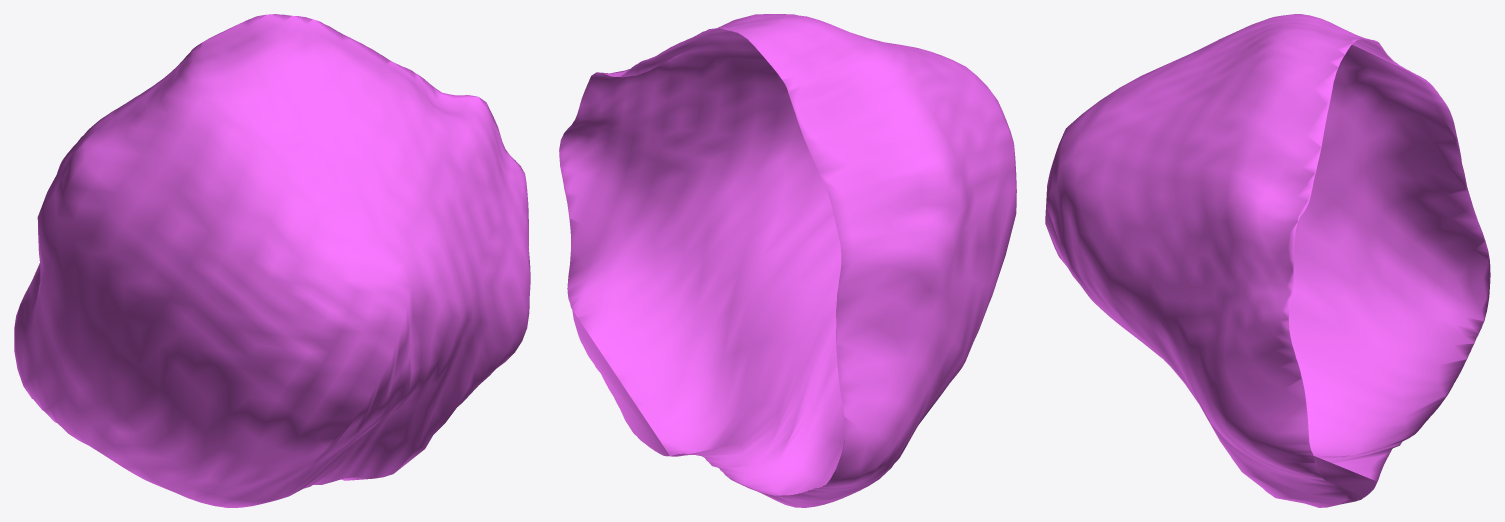
The model's file is Caries_2_OC.glb.
3 renders of one model, left to right at view 1: azimuth 30°, elevation 25°; view 2: azimuth 150°, elevation 25°; view 3: azimuth 270°, elevation 25°, orthographic. The views are drawn at different scales.
Visible parts, largest first — view 1: E2.001; view 2: E2.001; view 3: E2.001.
Boxes of the visible parts, <box> form: E2.001: <box>14,14,530,507</box>; E2.001: <box>559,14,1016,507</box>; E2.001: <box>1045,14,1490,507</box>.
Size of the model in its own units: 1.13 by 1.14 by 1.06.
